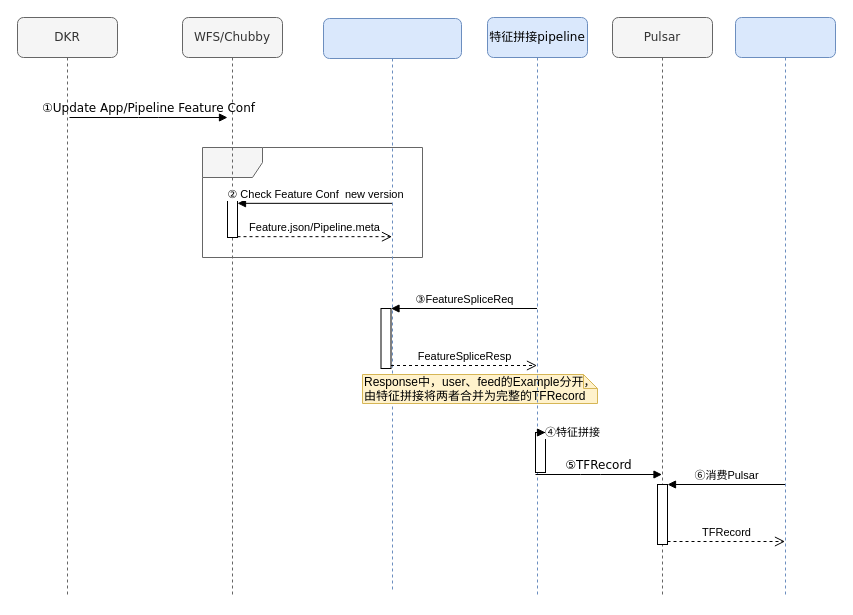
The diagram is 853 pixels wide and 615 high, and some of its shapes have lost their labels. The box of each missing label's shape, as (x1, y1, x2, y2) in pixels:
FeatureInference: (322, 18, 462, 592)
Loop: (202, 146, 422, 258)
Trainer: (734, 16, 836, 598)
